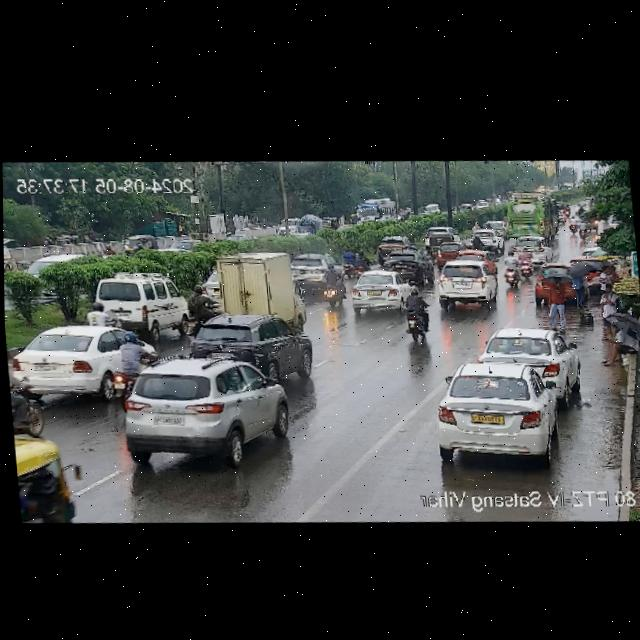bus: (502, 189, 566, 242), (356, 197, 396, 229)
car: (111, 348, 287, 474), (428, 355, 578, 472), (5, 316, 156, 406), (182, 308, 306, 375), (84, 273, 192, 339), (480, 322, 575, 389), (14, 439, 83, 526), (429, 256, 499, 311), (342, 267, 413, 315), (530, 258, 573, 303), (287, 251, 338, 285), (376, 246, 427, 268), (504, 234, 548, 259), (569, 249, 608, 276), (119, 233, 155, 255), (433, 241, 459, 268), (374, 234, 410, 252), (453, 249, 488, 266), (421, 222, 449, 240), (484, 228, 503, 254), (430, 228, 453, 246), (495, 221, 507, 238)
motorcycle: (8, 369, 49, 438), (398, 290, 436, 338), (316, 265, 350, 307), (339, 246, 365, 278), (84, 296, 110, 328), (501, 254, 521, 287), (515, 247, 534, 279), (567, 218, 589, 239), (468, 217, 495, 232), (469, 232, 484, 250), (104, 242, 117, 257)
person: (597, 318, 640, 367), (547, 277, 567, 328), (571, 267, 590, 314)
truck: (205, 244, 310, 329)
